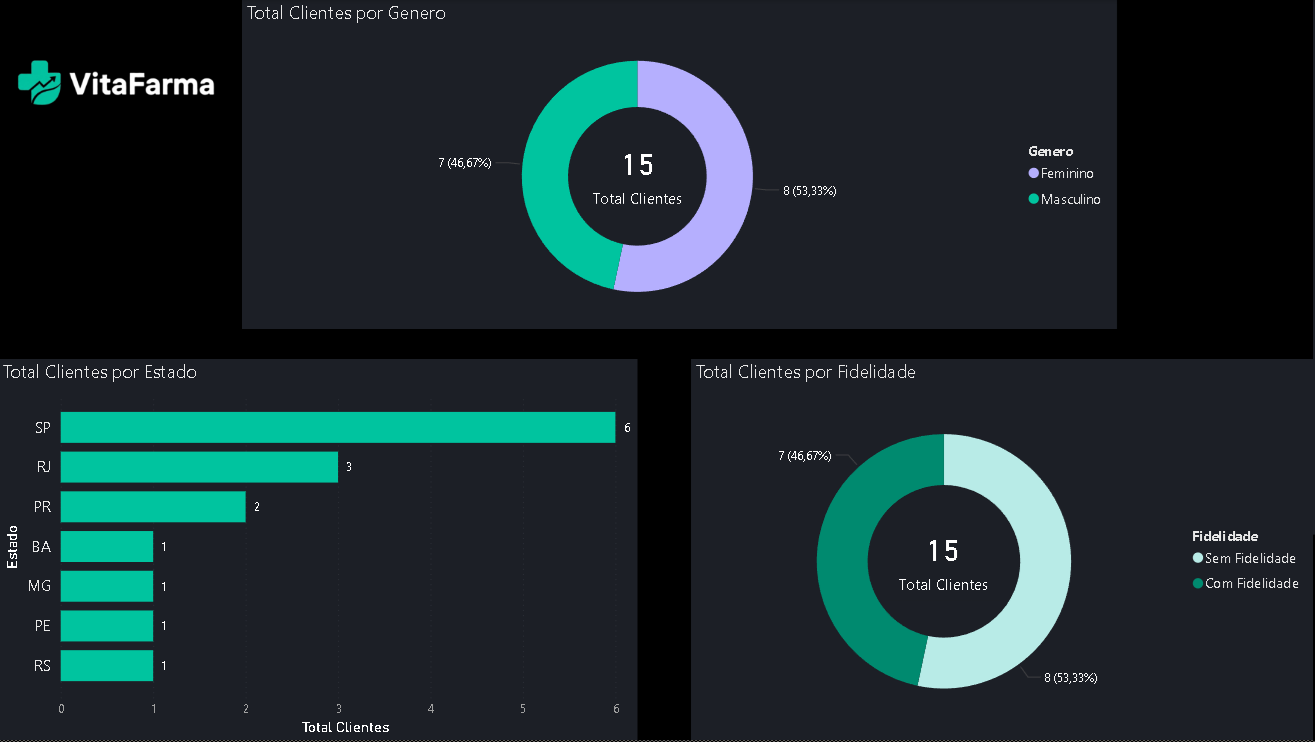

Layout of this report page (visuals, bound fields, positions):
{"tool":"powerbi","page":{"name":"Clientes","canvas":[1280,720],"ordinal":2},"visuals":[{"type":"barChart","fields":{"Category":["clientes.estado"],"Y":["clientes.Total Clientes"]},"box":[0,349.2,622.5,370.6],"z":0},{"type":"donutChart","fields":{"Category":["clientes.Genero_"],"Y":["clientes.Total Clientes"]},"box":[237.3,0,851.1,320],"z":1000},{"type":"card","fields":{"Values":["clientes.Total Clientes"]},"box":[570,133.3,104.1,70],"z":2000},{"type":"donutChart","fields":{"Category":["clientes.Fidelidade"],"Y":["clientes.Total Clientes"]},"box":[674,349.2,606,370.6],"z":3000},{"type":"card","fields":{"Values":["clientes.Total Clientes"]},"box":[863.7,503.8,110.9,79.8],"z":4000},{"type":"image","box":[8.8,0,209.1,160.5],"z":5000}]}

Visuals, with their boxes in screenshot pixels (x1, y1, x2, y2), scaled from the page's 1280x720 canvas onto the 1315x742 screenshot:
barChart - clientes.estado x clientes.Total Clientes: 0, 360, 640, 741
donutChart - clientes.Genero_ x clientes.Total Clientes: 244, 0, 1118, 330
card - clientes.Total Clientes: 586, 137, 693, 210
donutChart - clientes.Fidelidade x clientes.Total Clientes: 692, 360, 1314, 741
card - clientes.Total Clientes: 887, 519, 1001, 601
image: 9, 0, 224, 165
